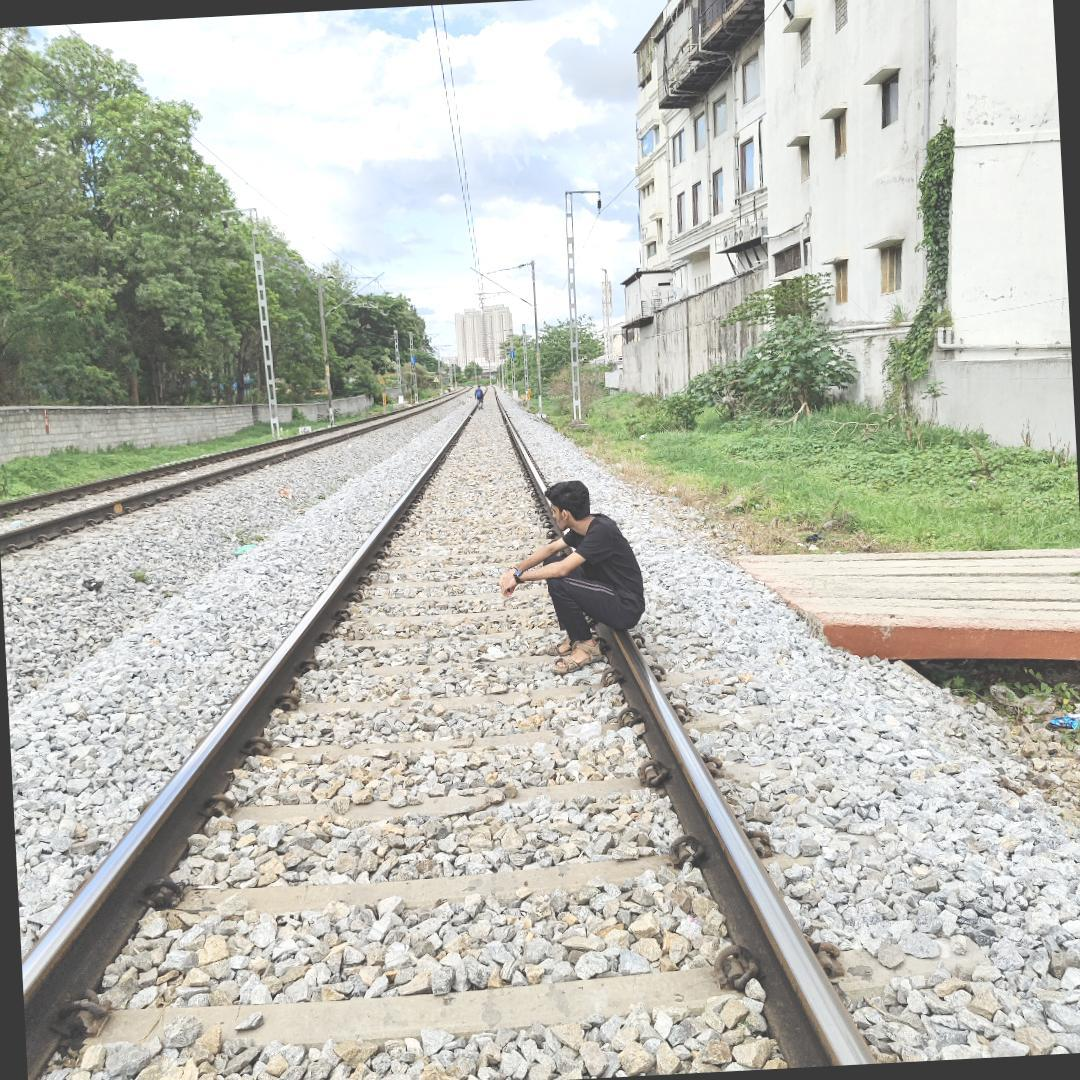sitting: (515, 468, 651, 680)
